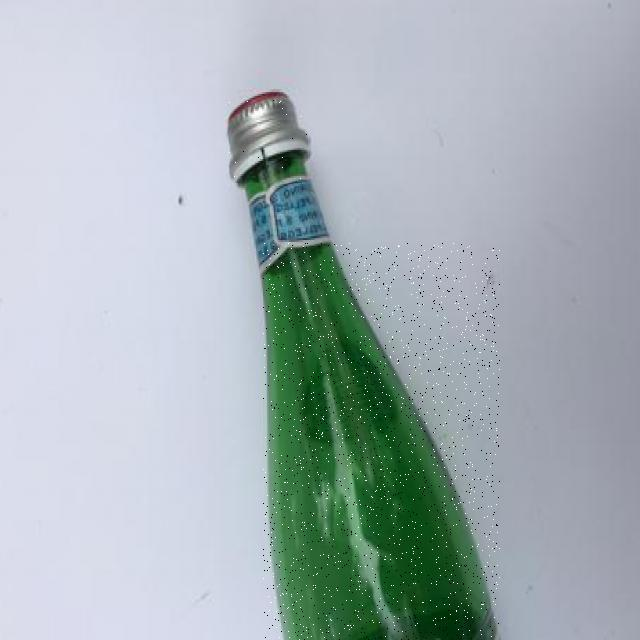glass: (263, 243, 500, 640)
metal: (229, 91, 309, 183)
